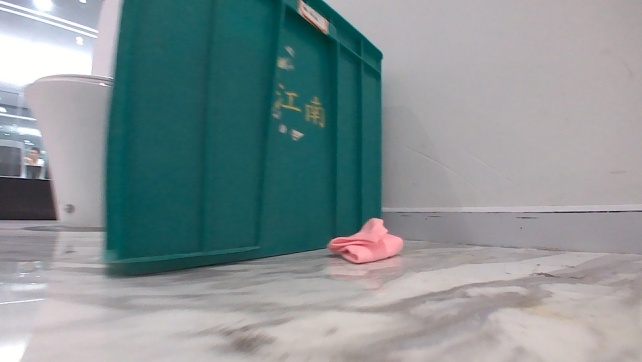socks: (325, 215, 405, 265)
toilet: (20, 70, 116, 232)
